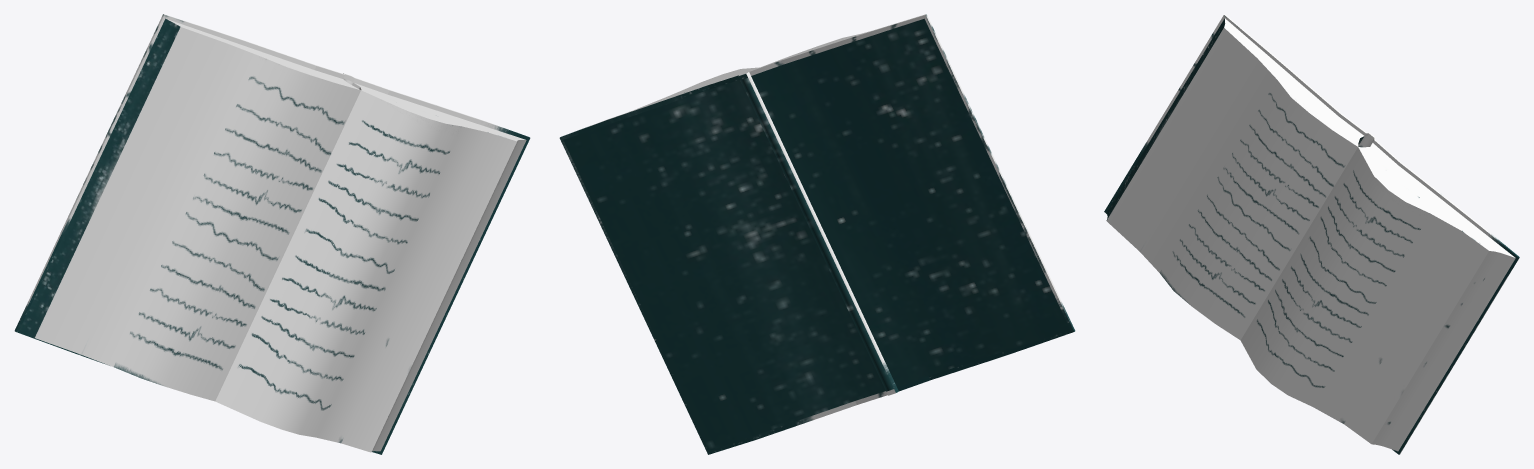
Rendered from livre_t_.fbx.
3 renders of one model, left to right at view 1: azimuth 30°, elevation 25°; view 2: azimuth 150°, elevation 25°; view 3: azimuth 330°, elevation 25°, orthographic. The views are drawn at different scales.
Parts seen in each view (by area): view 1: A_Book_002; view 2: A_Book_002; view 3: A_Book_002.
Boxes of the visible parts, x1=… form: A_Book_002: x1=14, y1=14, x2=530, y2=454; A_Book_002: x1=559, y1=14, x2=1075, y2=454; A_Book_002: x1=1104, y1=14, x2=1519, y2=454.
Bounding box in the file's own units: 42.23 × 38.66 × 4.38.
